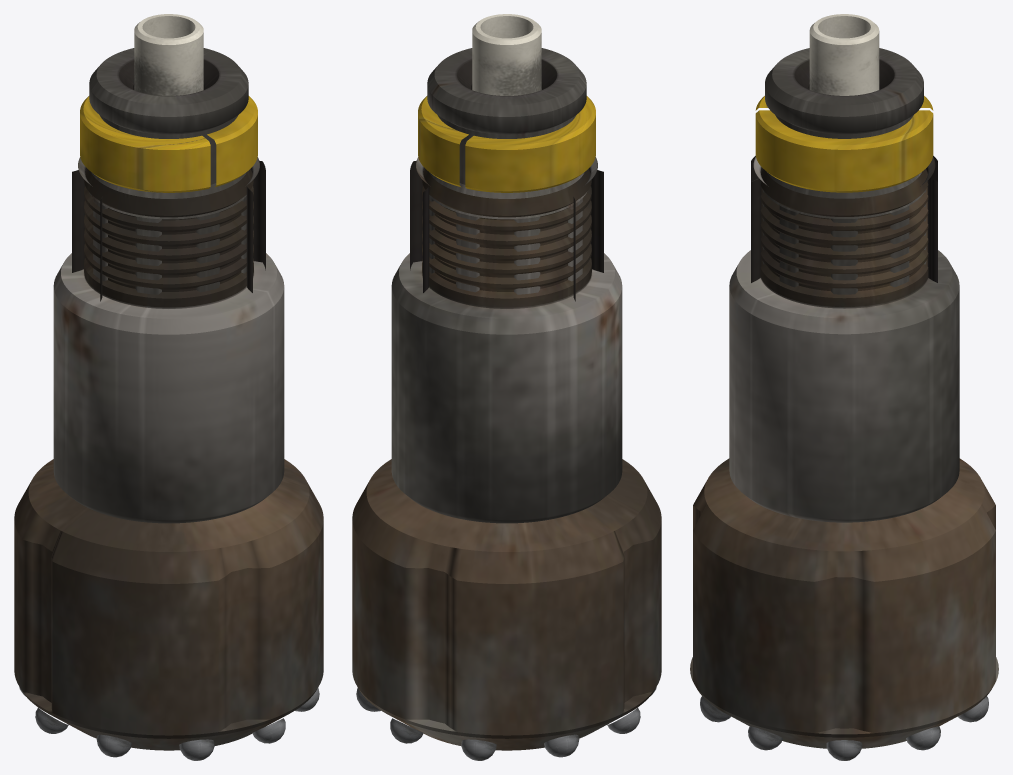
File: SM_Bit_5_1_8po_AvecChuck.glb
3 views of the same model, side by side, from view 1: azimuth 30°, elevation 25°; view 2: azimuth 150°, elevation 25°; view 3: azimuth 270°, elevation 25° (orthographic).
Visible parts, largest first — view 1: Bit_5_1_8po_AvecChuck_Bit, Bit_5_1_8po_AvecChuck_Chuck, Bit_5_1_8po_AvecChuck_Anneaux, Bit_5_1_8po_AvecChuck_TubeDePied, Bit_5_1_8po_AvecChuck_Boutons; view 2: Bit_5_1_8po_AvecChuck_Bit, Bit_5_1_8po_AvecChuck_Chuck, Bit_5_1_8po_AvecChuck_Anneaux, Bit_5_1_8po_AvecChuck_TubeDePied, Bit_5_1_8po_AvecChuck_Boutons; view 3: Bit_5_1_8po_AvecChuck_Bit, Bit_5_1_8po_AvecChuck_Chuck, Bit_5_1_8po_AvecChuck_Anneaux, Bit_5_1_8po_AvecChuck_TubeDePied, Bit_5_1_8po_AvecChuck_Boutons.
Part boxes in pixels (x1,y1,x2,y2): Bit_5_1_8po_AvecChuck_Bit: (14, 48, 323, 750); Bit_5_1_8po_AvecChuck_Chuck: (53, 157, 284, 523); Bit_5_1_8po_AvecChuck_Anneaux: (80, 96, 257, 192); Bit_5_1_8po_AvecChuck_TubeDePied: (134, 14, 203, 95); Bit_5_1_8po_AvecChuck_Boutons: (19, 687, 319, 760); Bit_5_1_8po_AvecChuck_Bit: (352, 48, 661, 750); Bit_5_1_8po_AvecChuck_Chuck: (391, 157, 622, 523); Bit_5_1_8po_AvecChuck_Anneaux: (418, 96, 595, 192); Bit_5_1_8po_AvecChuck_TubeDePied: (472, 14, 541, 95); Bit_5_1_8po_AvecChuck_Boutons: (356, 687, 656, 760); Bit_5_1_8po_AvecChuck_Bit: (690, 48, 998, 748); Bit_5_1_8po_AvecChuck_Chuck: (729, 156, 959, 522); Bit_5_1_8po_AvecChuck_Anneaux: (755, 96, 933, 192); Bit_5_1_8po_AvecChuck_TubeDePied: (809, 14, 879, 95); Bit_5_1_8po_AvecChuck_Boutons: (700, 696, 988, 760).
Bounding box in the file's own units: 0.1302 × 0.3202 × 0.1302.
Materials: 5 (5 with a texture image).
